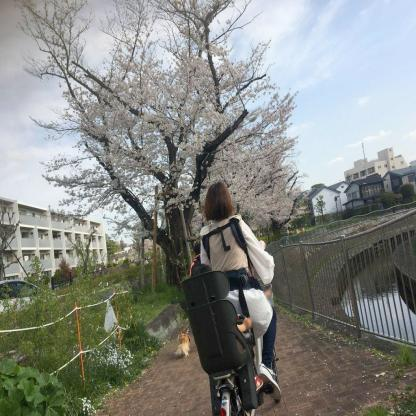Someiyoshino: (6, 0, 319, 253)
